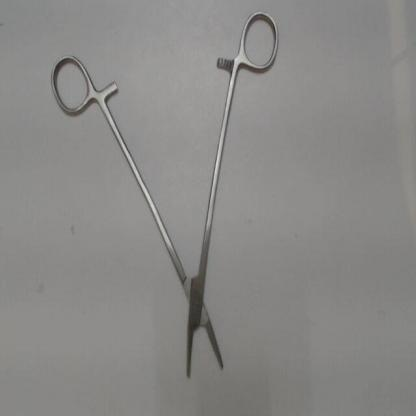8 Mayo Needle Holder: (42, 5, 286, 396)
